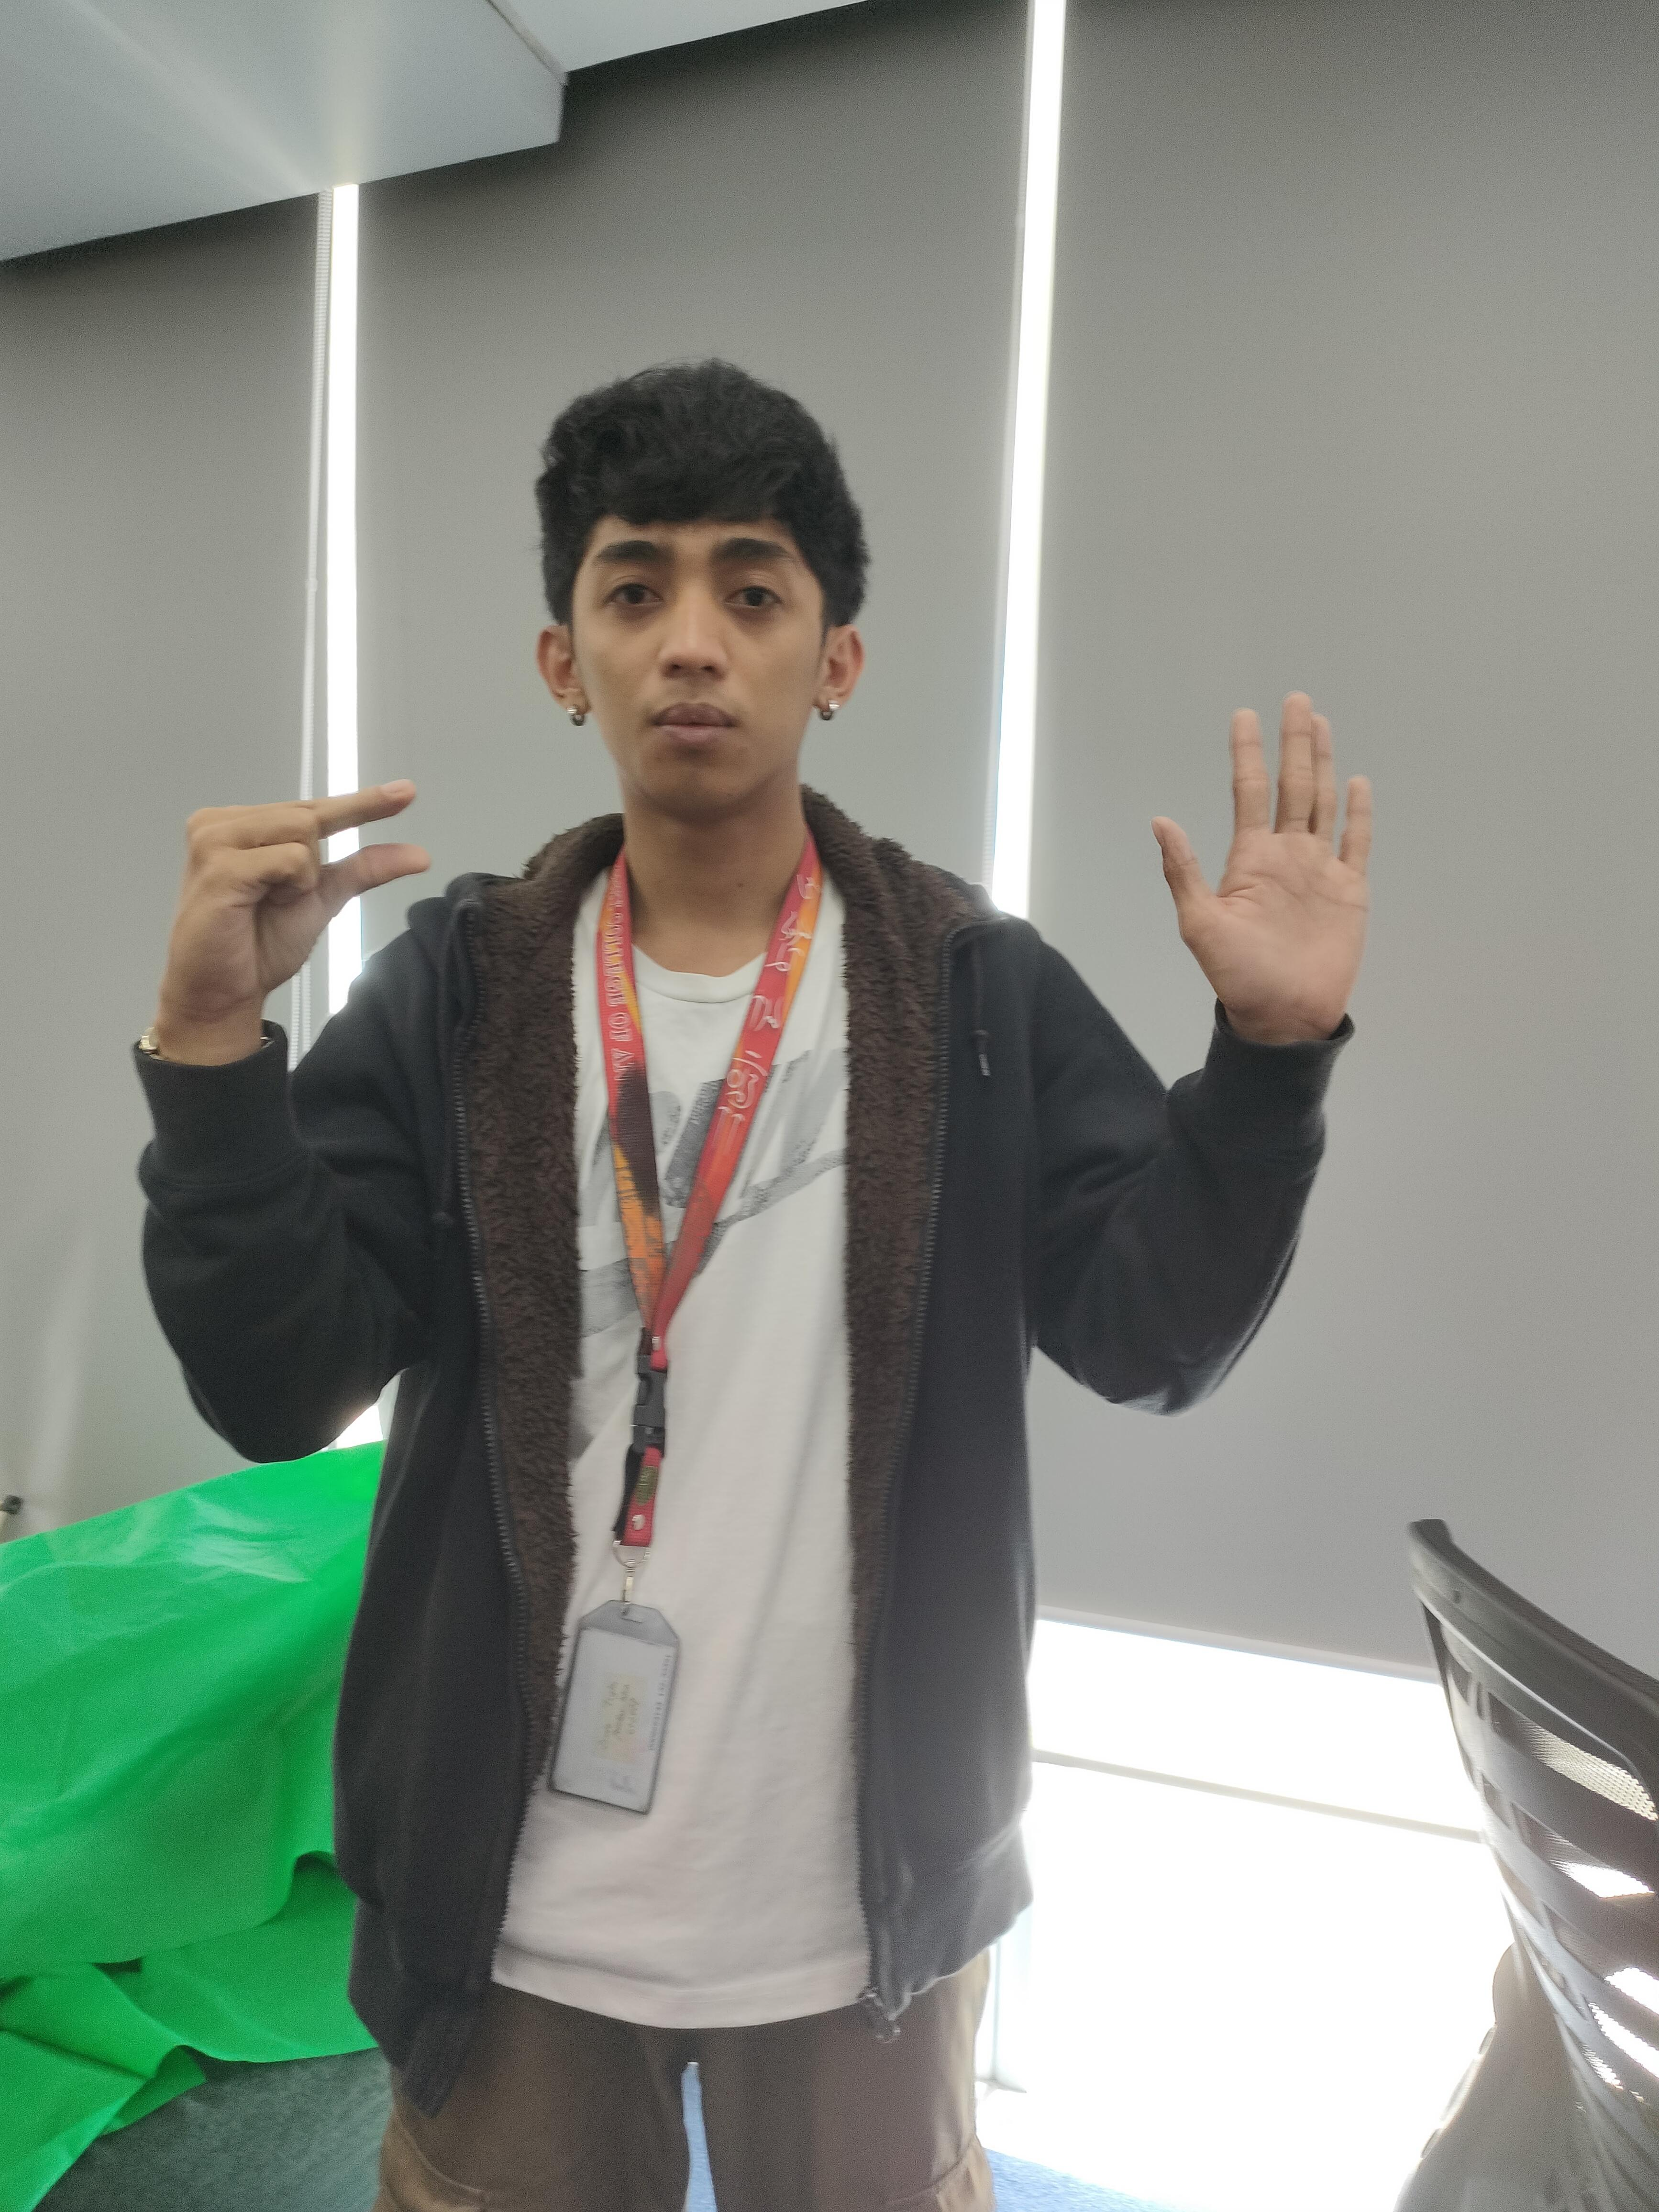No: (174, 784, 490, 972)
love: (1136, 705, 1419, 1075)
